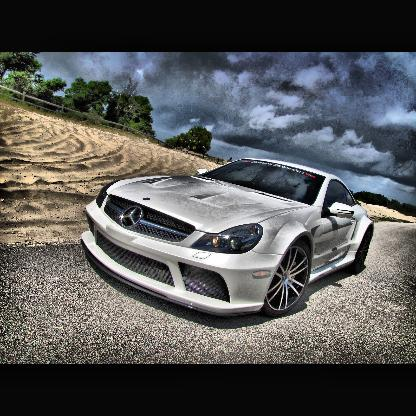Mercedes-Benz SL-Class Coupe 2009: (80, 160, 374, 321)
